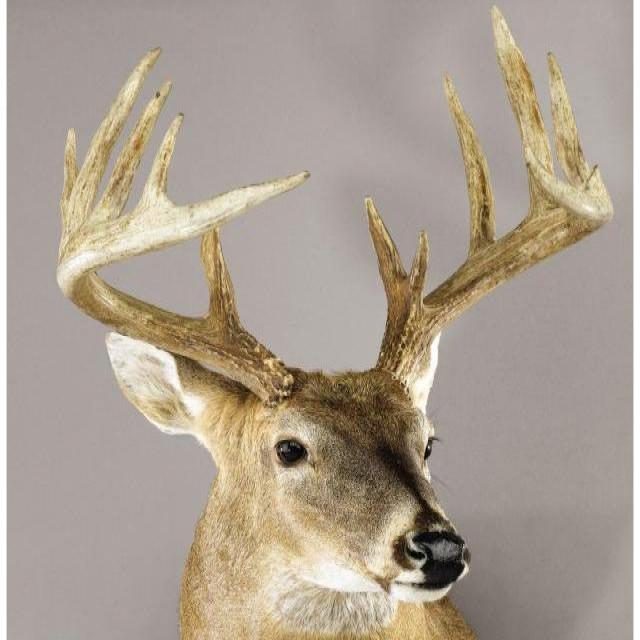deer: (55, 9, 623, 640)
